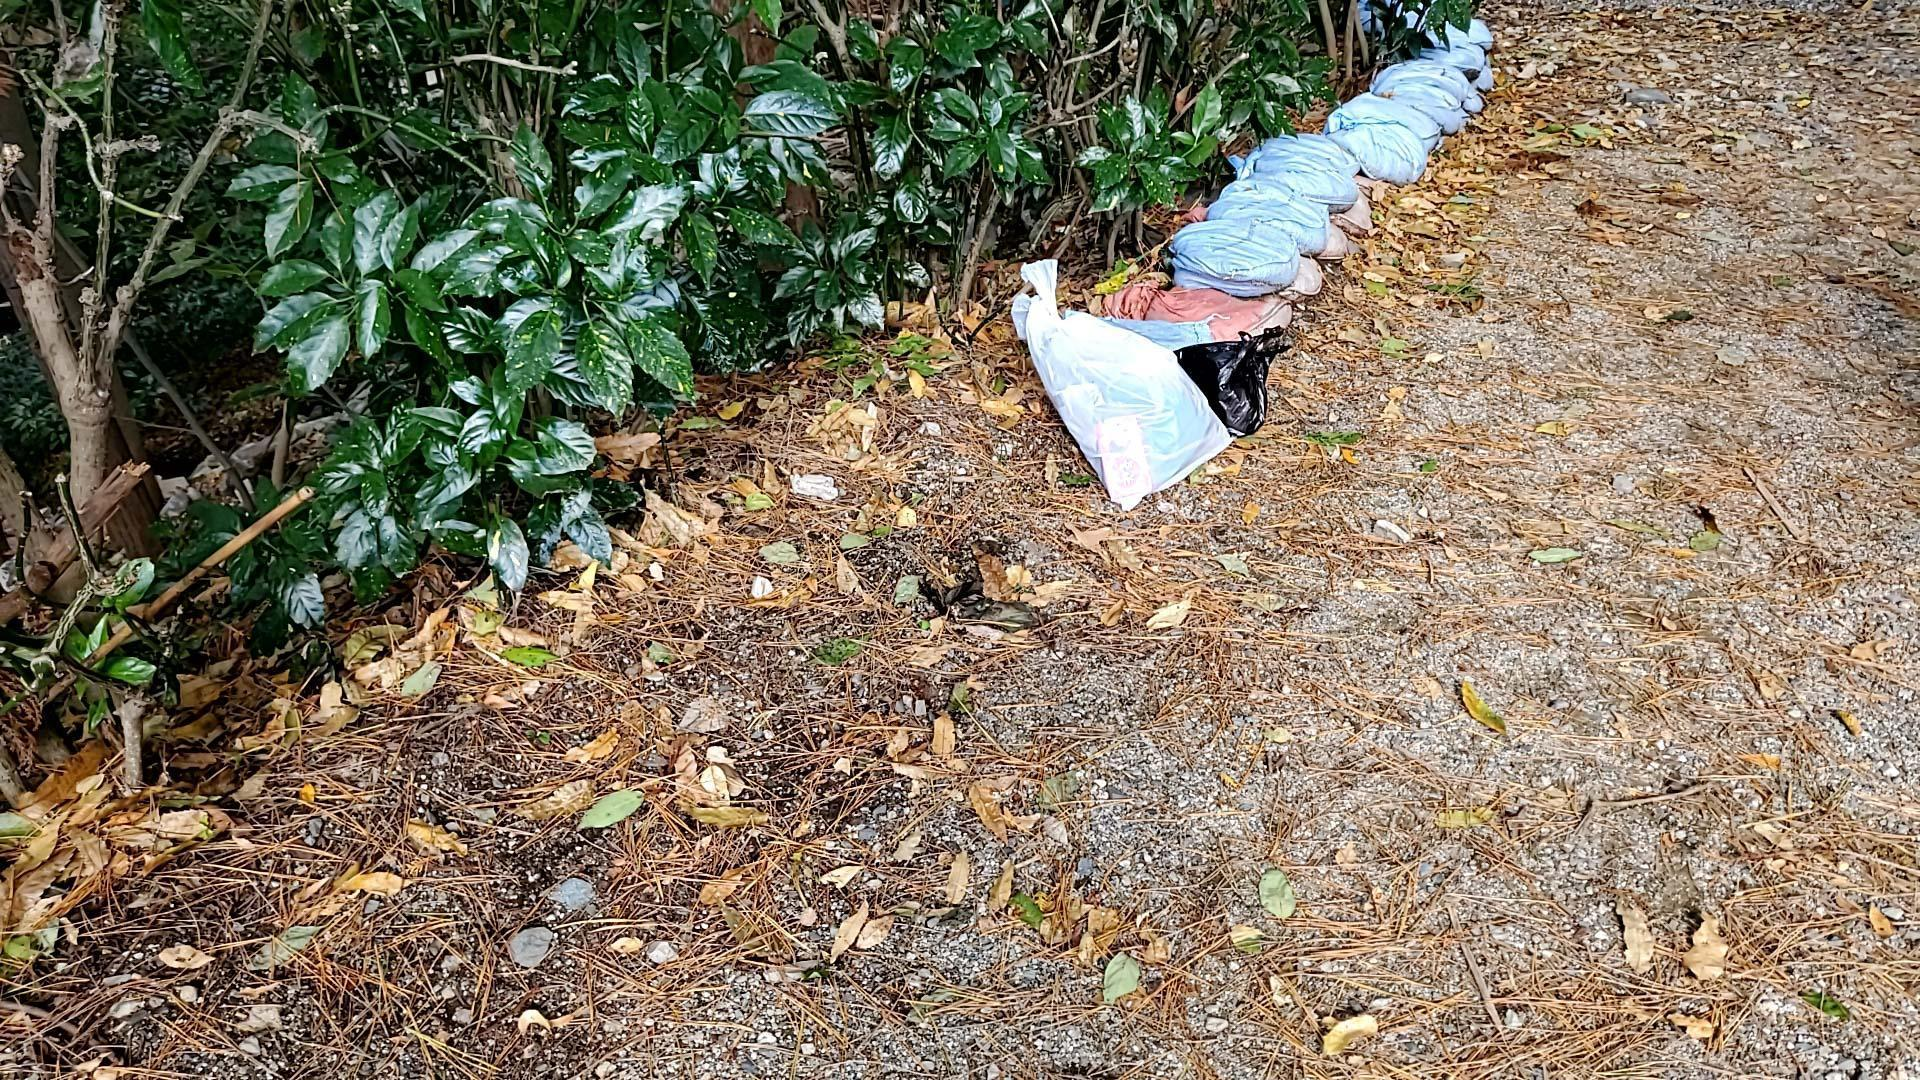black_bag: (1168, 316, 1302, 444)
white_bag: (1000, 252, 1242, 509)
